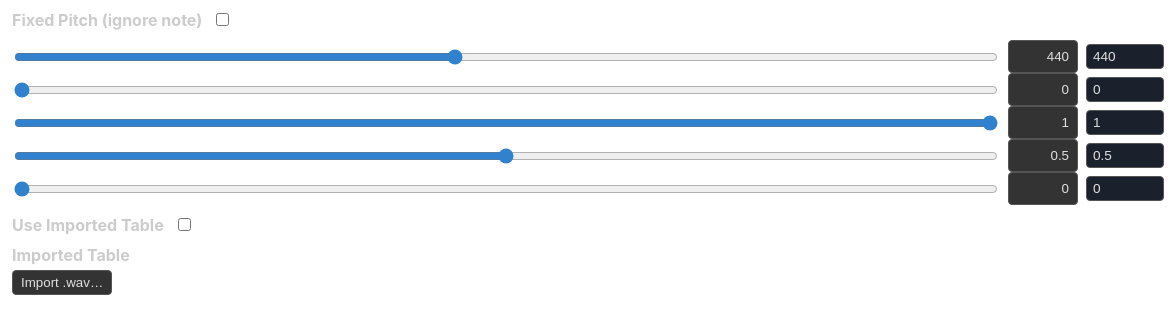
Wavetable Import — failure paths › surfaces a decode failure (not a valid WAV) instead of writing a broken customTable
Click the button with test id "wavetable-import": {"x": 62, "y": 282} [12,270,112,295]
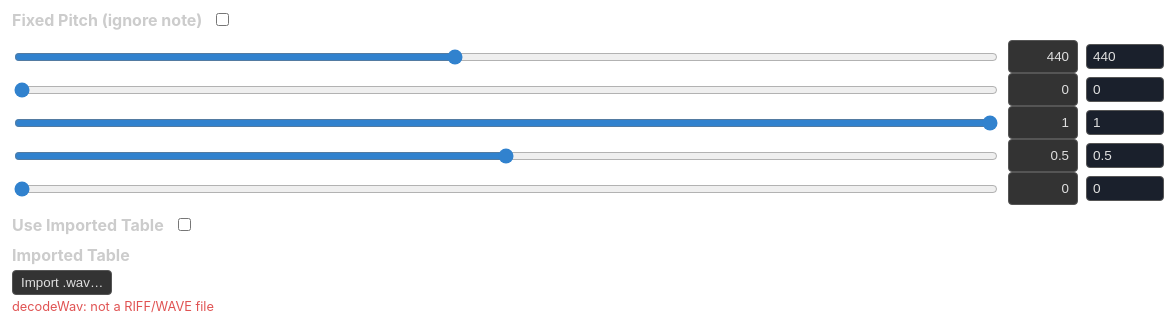
Expected: the text "decodeWav: not a RIFF/WAVE file" is shown, [12,299,214,314]
